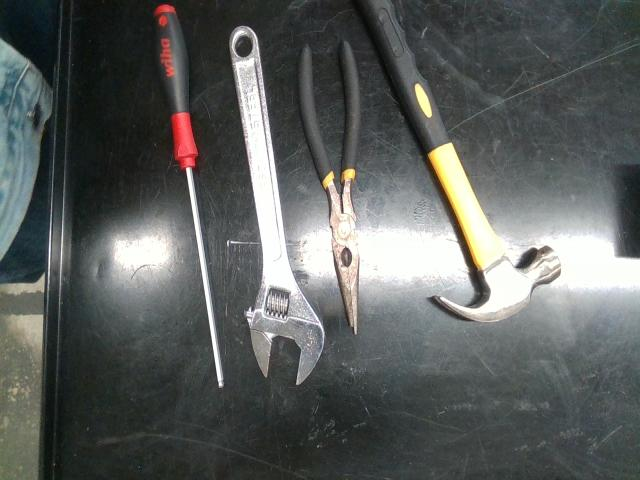Adjustable spanner: (230, 27, 324, 384)
Hammer: (359, 0, 561, 322)
Needle-nose pliers: (299, 42, 360, 334)
Screwdriver: (154, 5, 224, 388)
